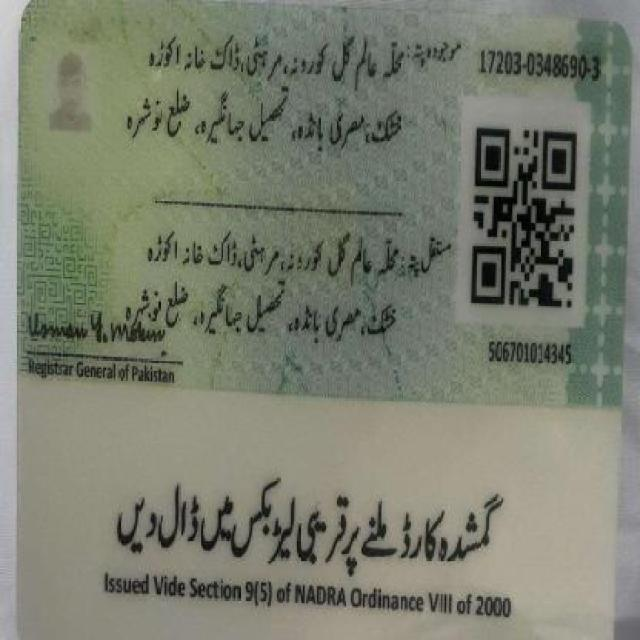Back: (12, 2, 628, 630)
